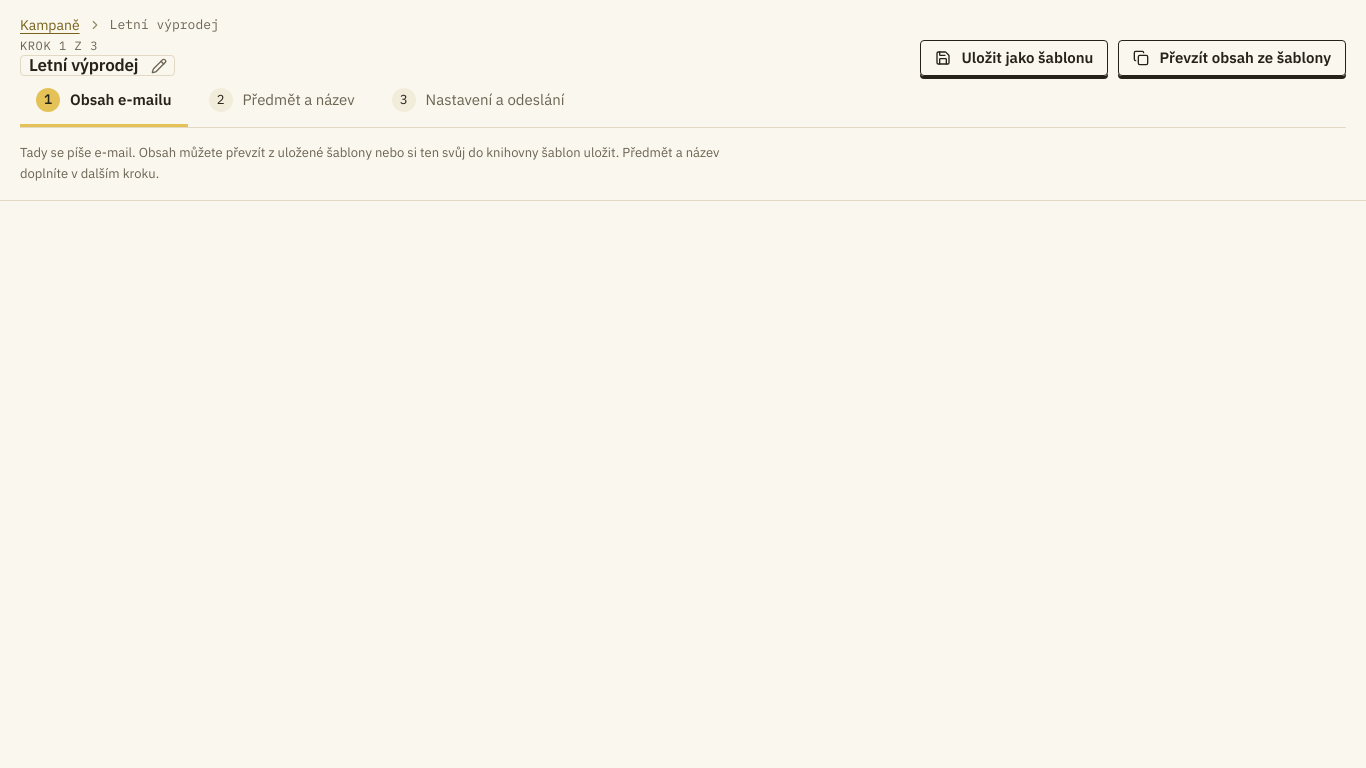
it: editor jako krok 1 kampaně › od dvanácti šablon nabídka hledá a zúží seznam
Click the button with test id "use-library-open".
click(1232, 58)  # box left=1118, top=40, right=1346, bottom=76
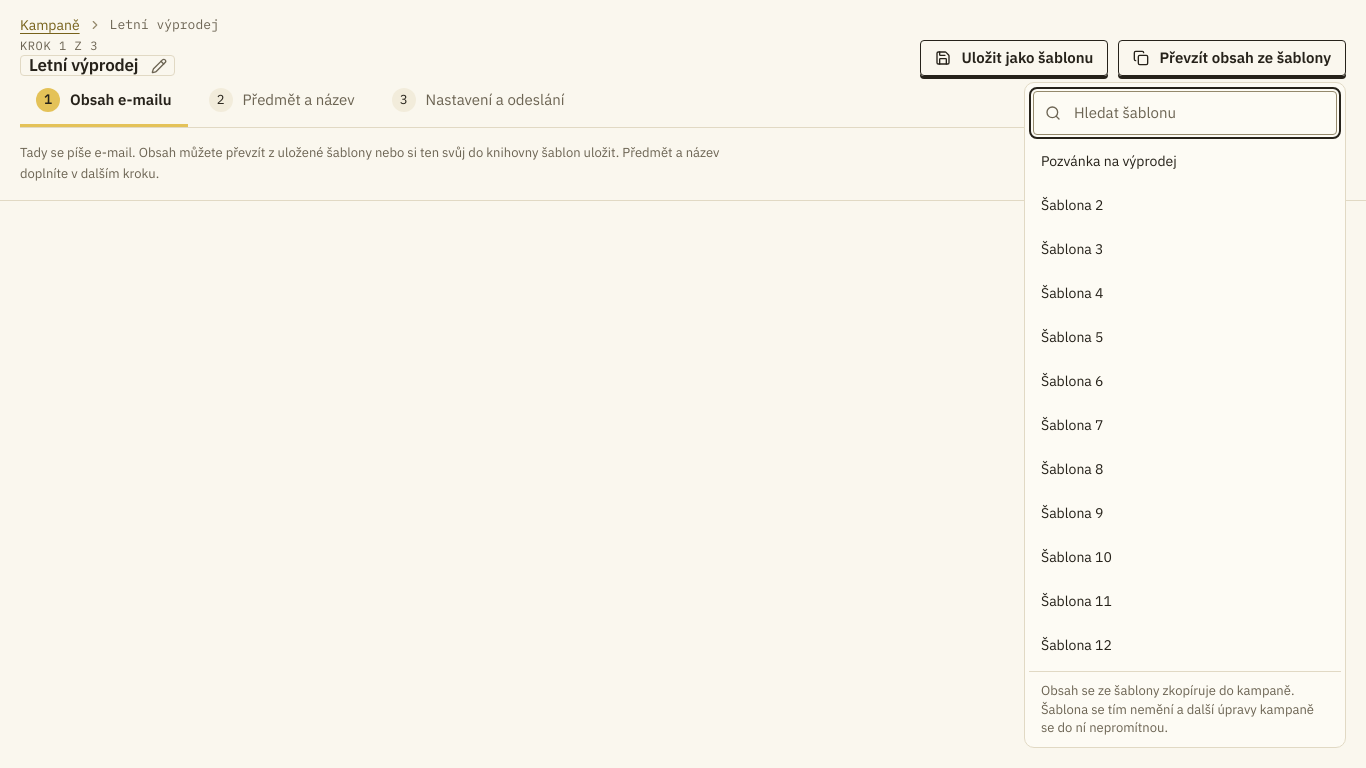
Expected: the number of menu items is 12
Note: Bez diakritiky: kdo píše „vyprodej", musí najít „Pozvánka na výprodej".
Type "vyprodej" into the field labelled "Hledat šablonu".
click(1185, 113); type("vyprodej")  # box left=1033, top=91, right=1337, bottom=135
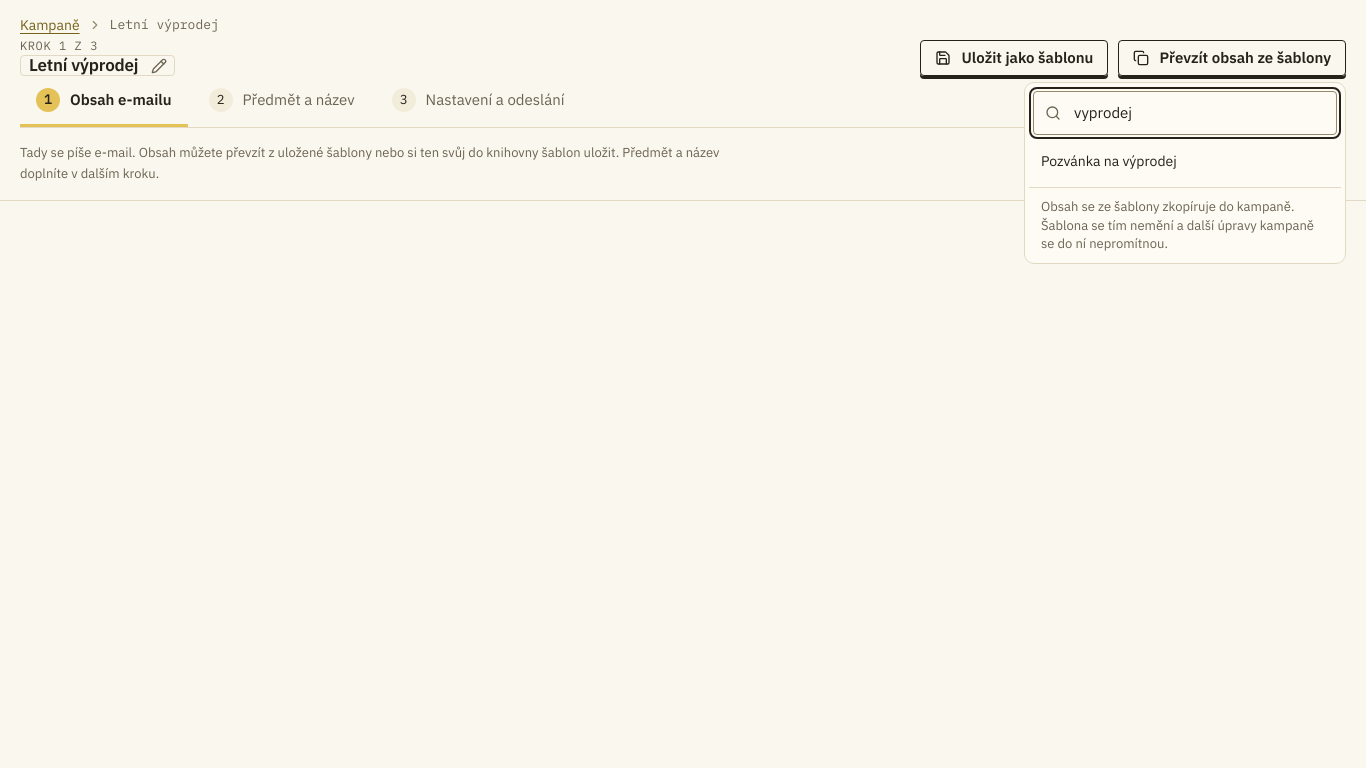
Expected: the menu item reads "Pozvánka na výprodej", left=1041, top=152, right=1177, bottom=170
Expected: the number of menu items is 1, left=1041, top=152, right=1177, bottom=170
